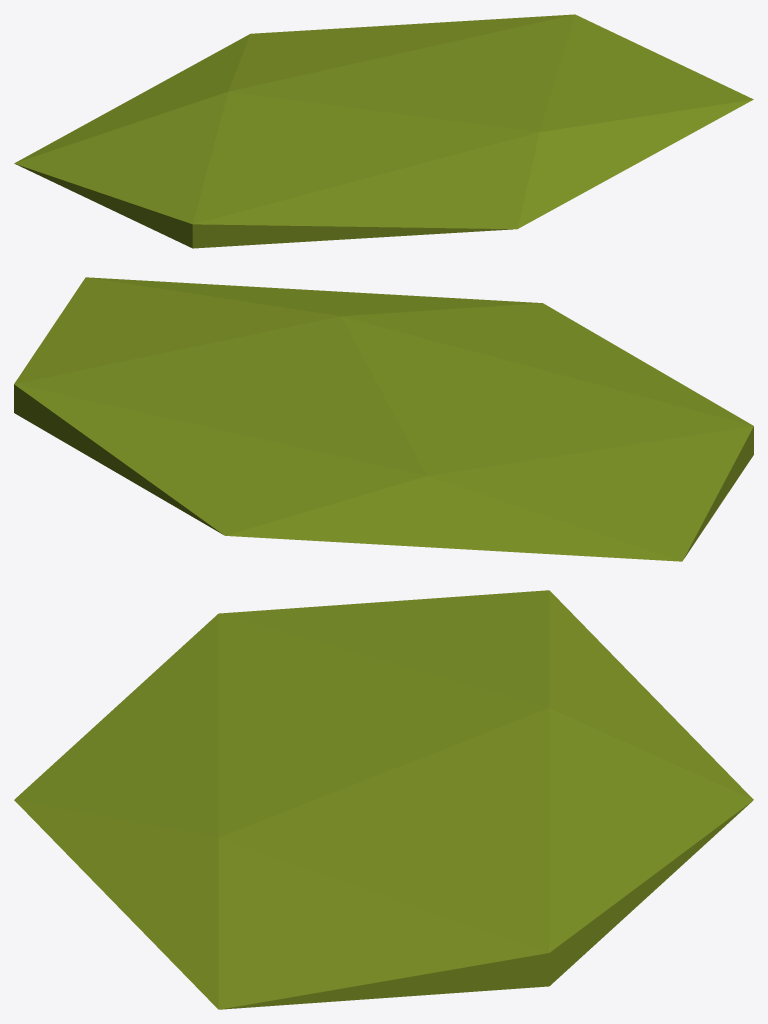
Rendered from 005_ミズゴケ.fbx.
3 views of the same model, one above another, from view 1: azimuth 30°, elevation 25°; view 2: azimuth 150°, elevation 25°; view 3: azimuth 270°, elevation 25° (orthographic). The views are drawn at different scales.
Parts seen in each view (by area): view 1: ICO球; view 2: ICO球; view 3: ICO球.
Part boxes in pixels (x1,y1,x2,y2): ICO球: (14, 14, 753, 248); ICO球: (14, 277, 753, 561); ICO球: (14, 590, 753, 1009).
Bounding box in the file's own units: 1073 × 64.65 × 800.
